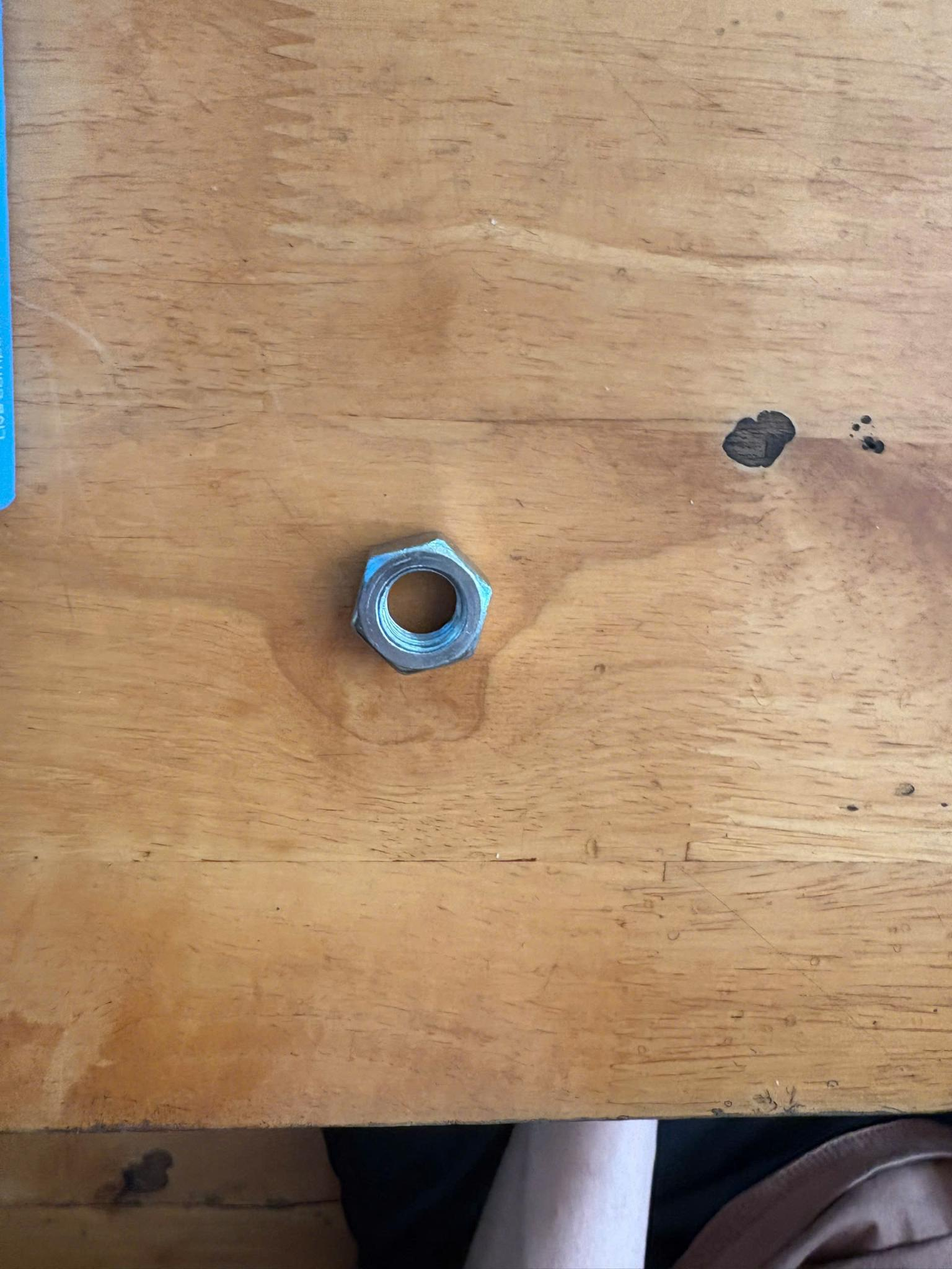nut: (337, 528, 530, 694)
